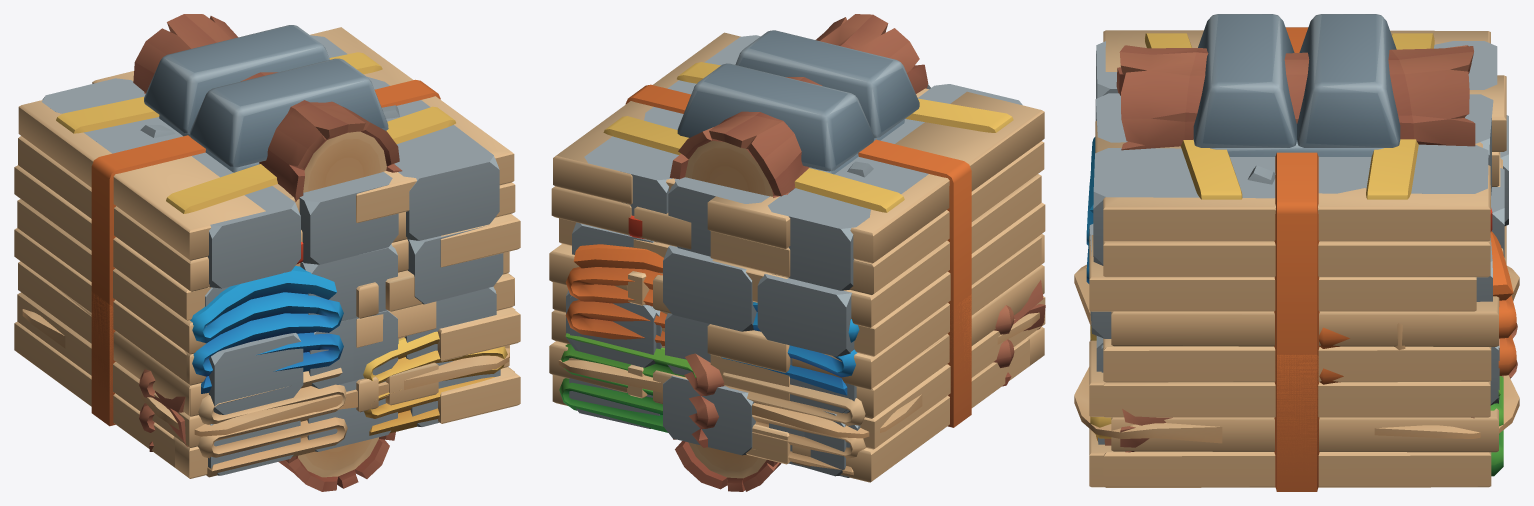
Rendered from resources.glb.
The picture shows the model from 3 angles, left to right: view 1: azimuth 30°, elevation 25°; view 2: azimuth 150°, elevation 25°; view 3: azimuth 270°, elevation 25°; orthographic projection. The views are drawn at different scales.
Visible parts, largest first — view 1: Wood_Planks_Stack_Large, Stone_Bricks_Stack_Large, Textiles_Stack_Large_Colored, Iron_Bars_Stack_Medium, Wood_Planks_Stack_Medium, Wood_Log_Stack, Stone_Bricks_Stack_Medium, Pallet_Wood_Covered_A, Wood_Log_A, Textiles_Stack_Small; view 2: Wood_Planks_Stack_Large, Stone_Bricks_Stack_Large, Iron_Bars_Stack_Medium, Textiles_Stack_Large_Colored, Wood_Planks_Stack_Medium, Wood_Log_Stack, Stone_Bricks_Stack_Medium, Pallet_Wood_Covered_A, Wood_Log_A, Textiles_Stack_Small, Wood_Planks_Stack_Small; view 3: Wood_Planks_Stack_Large, Stone_Bricks_Stack_Large, Iron_Bars_Stack_Medium, Wood_Planks_Stack_Medium, Wood_Log_Stack, Pallet_Wood_Covered_A, Textiles_Stack_Large_Colored, Stone_Bricks_Stack_Medium.
Boxes of the visible parts, <box> form: Wood_Planks_Stack_Large: <box>14,27,520,467</box>; Stone_Bricks_Stack_Large: <box>42,35,503,475</box>; Textiles_Stack_Large_Colored: <box>190,266,507,477</box>; Iron_Bars_Stack_Medium: <box>144,25,388,172</box>; Wood_Planks_Stack_Medium: <box>17,261,520,478</box>; Wood_Log_Stack: <box>133,14,402,446</box>; Stone_Bricks_Stack_Medium: <box>211,286,496,475</box>; Pallet_Wood_Covered_A: <box>22,309,509,436</box>; Wood_Log_A: <box>278,432,395,491</box>; Textiles_Stack_Small: <box>139,369,155,451</box>; Wood_Planks_Stack_Large: <box>549,32,1045,482</box>; Stone_Bricks_Stack_Large: <box>569,35,1022,476</box>; Iron_Bars_Stack_Medium: <box>677,30,919,174</box>; Textiles_Stack_Large_Colored: <box>559,244,866,475</box>; Wood_Planks_Stack_Medium: <box>549,234,1045,449</box>; Wood_Log_Stack: <box>669,14,1045,330</box>; Stone_Bricks_Stack_Medium: <box>566,290,860,477</box>; Pallet_Wood_Covered_A: <box>558,312,1039,438</box>; Wood_Log_A: <box>673,438,781,491</box>; Textiles_Stack_Small: <box>684,305,1014,447</box>; Wood_Planks_Stack_Small: <box>628,365,790,463</box>; Wood_Planks_Stack_Large: <box>1089,27,1506,491</box>; Stone_Bricks_Stack_Large: <box>1089,33,1508,441</box>; Iron_Bars_Stack_Medium: <box>1193,14,1400,156</box>; Wood_Planks_Stack_Medium: <box>1089,225,1506,488</box>; Wood_Log_Stack: <box>1116,45,1475,452</box>; Pallet_Wood_Covered_A: <box>1074,264,1519,445</box>; Textiles_Stack_Large_Colored: <box>1086,137,1516,476</box>; Stone_Bricks_Stack_Medium: <box>1096,336,1498,444</box>.
Size of the model in its own units: 1.72 by 1.78 by 1.72.
1 material, 1 textured.
